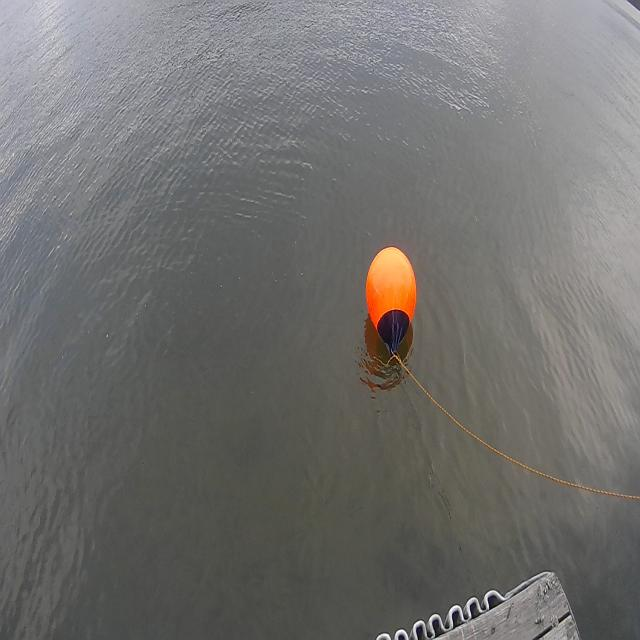Buoy: (364, 241, 419, 360)
